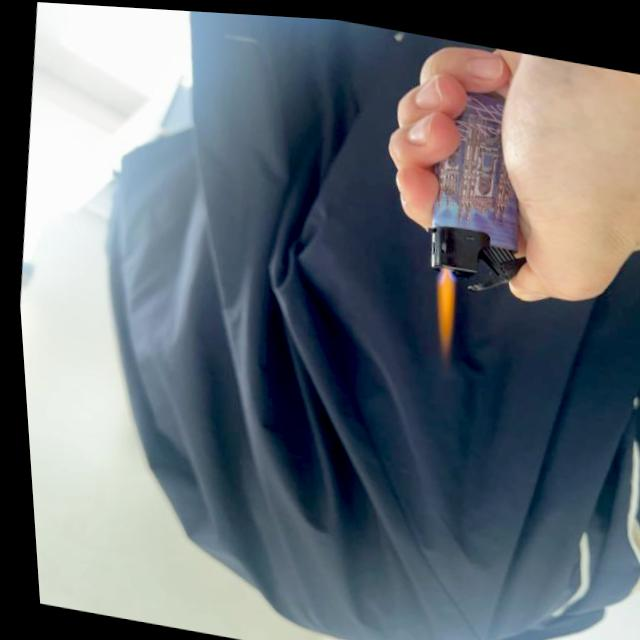helmet: (422, 267, 458, 352)
